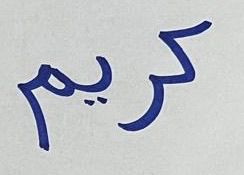kaf: (157, 15, 225, 84)
meem: (11, 54, 76, 152)
reh: (117, 86, 166, 136)
yeh: (78, 50, 114, 110)
